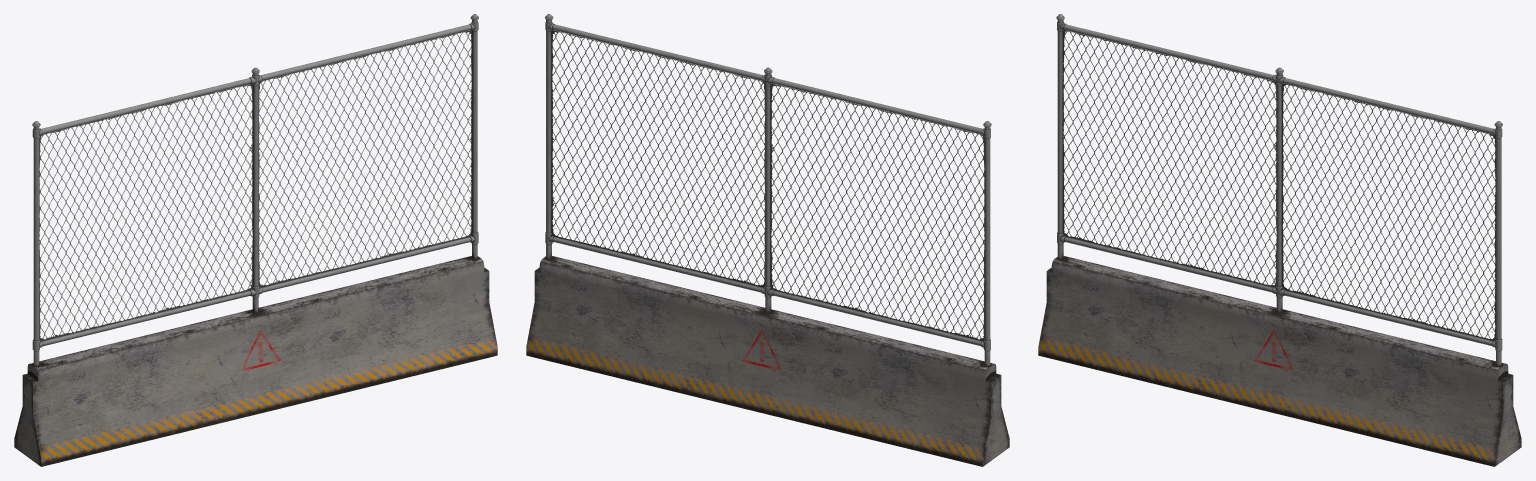
File: fence_concrete-_15mb.glb
3 views of the same model, side by side, from view 1: azimuth 30°, elevation 25°; view 2: azimuth 150°, elevation 25°; view 3: azimuth 330°, elevation 25° (orthographic).
Visible parts, largest first — view 1: fence_panel_10, fence_panel_8, fence_pipes; view 2: fence_panel_10, fence_panel_8, fence_pipes; view 3: fence_panel_10, fence_panel_8, fence_pipes.
Boxes of the visible parts, x1,y1,x2,y2 form: fence_panel_10: [14, 256, 497, 466]; fence_panel_8: [39, 30, 472, 340]; fence_pipes: [32, 14, 478, 365]; fence_panel_10: [526, 256, 1009, 466]; fence_panel_8: [551, 30, 984, 340]; fence_pipes: [545, 14, 991, 366]; fence_panel_10: [1038, 256, 1521, 466]; fence_panel_8: [1063, 30, 1495, 340]; fence_pipes: [1056, 14, 1502, 365].
Bounding box in the file's own units: 3.55 × 2.48 × 0.3634.
3 materials, 3 textured.
